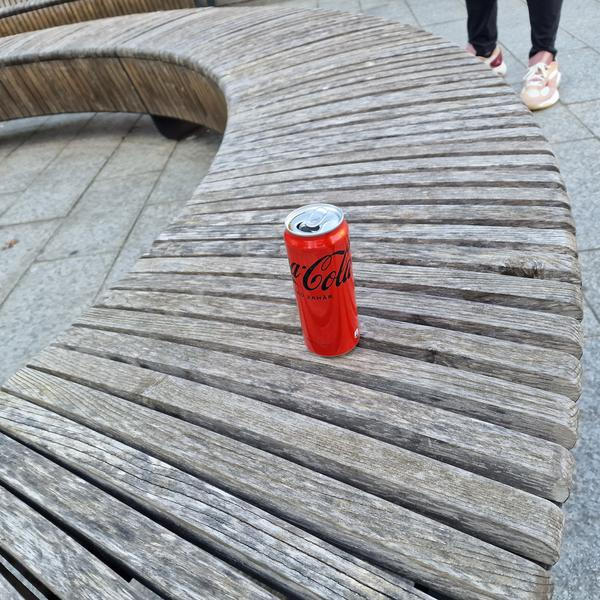can: (280, 199, 365, 362)
